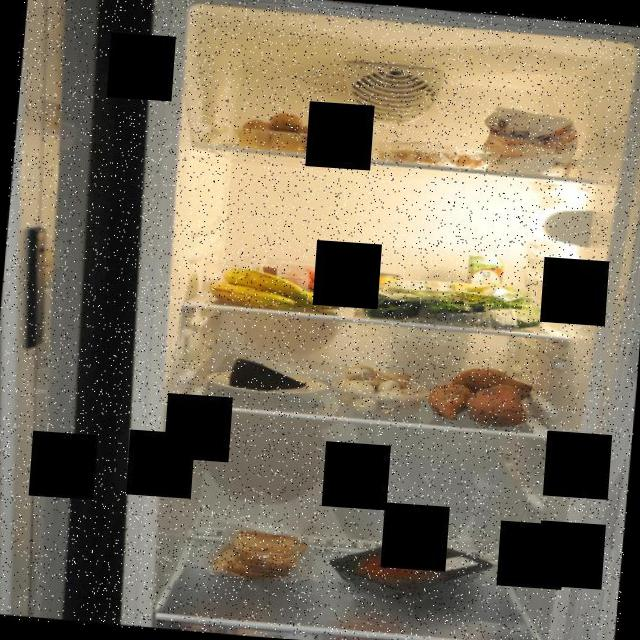Carne vacuno: (322, 529, 498, 610)
Champiñones: (330, 360, 424, 419)
Gambas/Langostinos: (372, 142, 493, 174)
Patata: (232, 104, 350, 158)
Plátano: (202, 262, 344, 314)
Queso: (226, 354, 310, 394)
